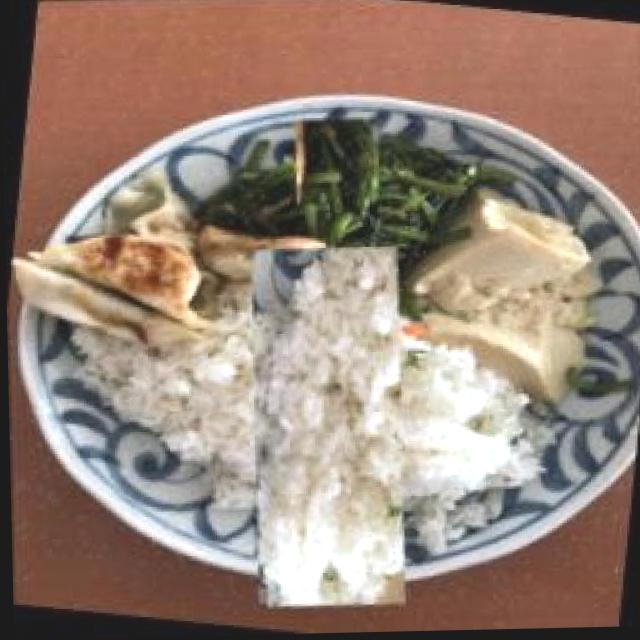fried_dumplings: (13, 167, 345, 373)
rice: (168, 267, 486, 585)
water_spinach: (257, 123, 418, 284)
